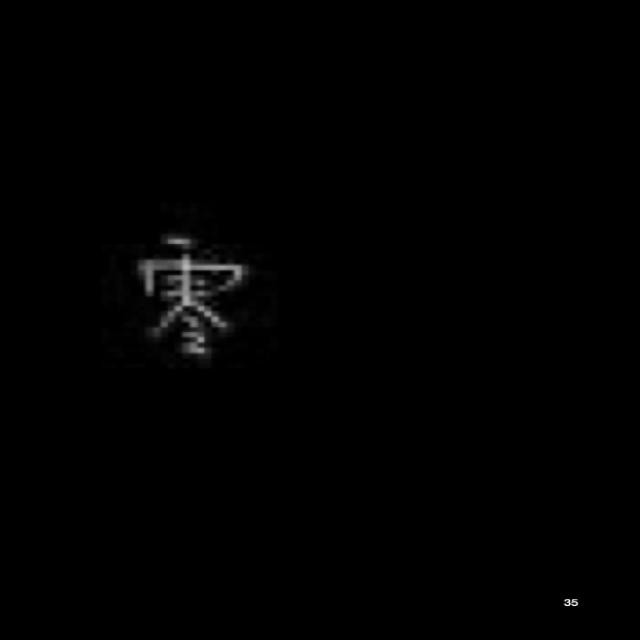0 -zero-: (129, 225, 248, 368)
